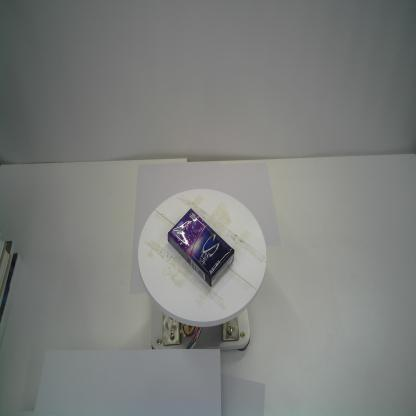Gum: (167, 207, 235, 288)
